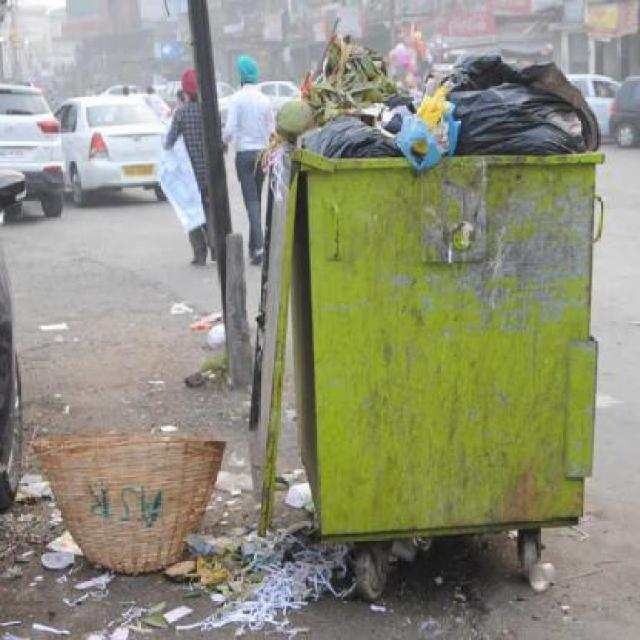garbage: (12, 414, 376, 634), (266, 23, 606, 180), (165, 296, 226, 352), (29, 317, 74, 350)
